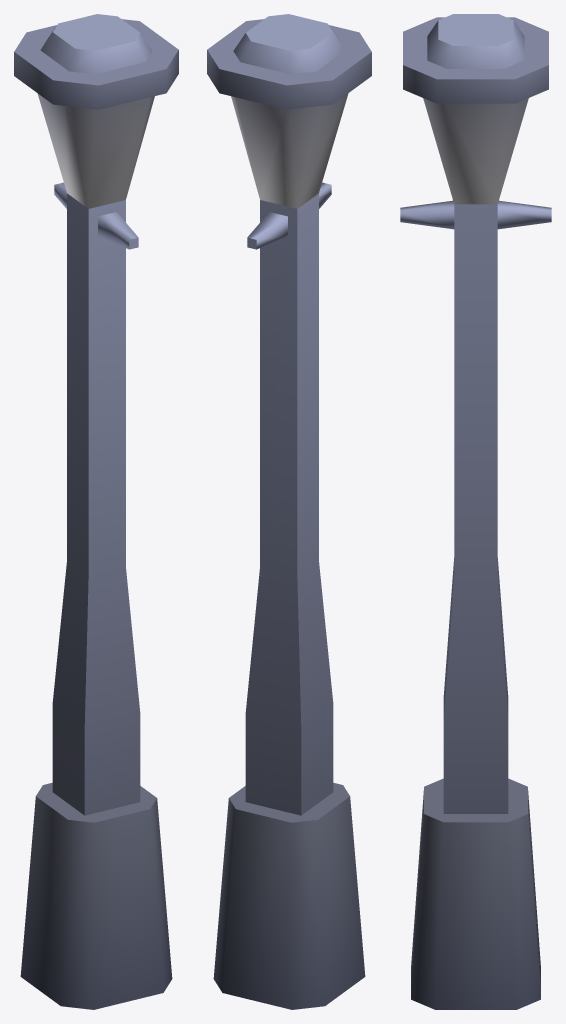
Rendered from farol.glb.
3 renders of one model, left to right at view 1: azimuth 30°, elevation 25°; view 2: azimuth 150°, elevation 25°; view 3: azimuth 270°, elevation 25°, orthographic.
Parts seen in each view (by area): view 1: lantern; view 2: lantern; view 3: lantern.
Part boxes in pixels (x1=…): lantern: x1=14, y1=14, x2=178, y2=1009; lantern: x1=207, y1=14, x2=371, y2=1009; lantern: x1=400, y1=14, x2=551, y2=1009.
Size of the model in its own units: 0.2164 by 1.56 by 0.2243.
